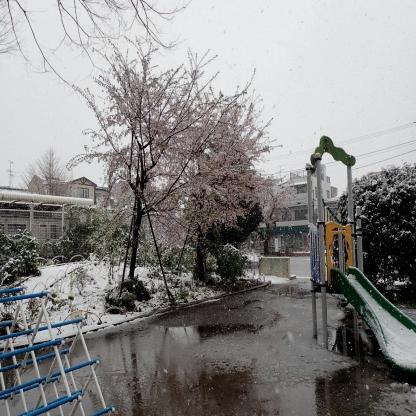Someiyoshino: (82, 51, 279, 240)
